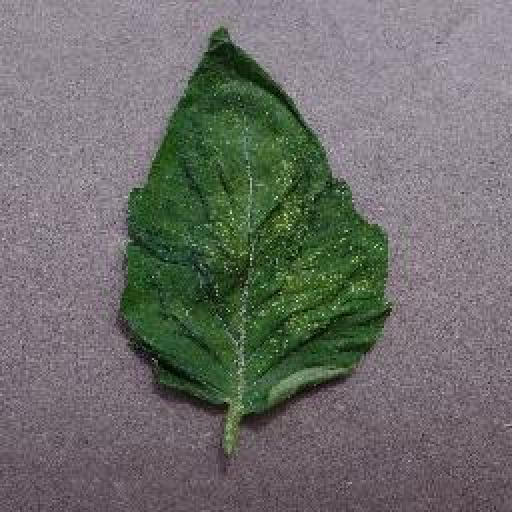Spider Mites: (116, 25, 388, 416)
